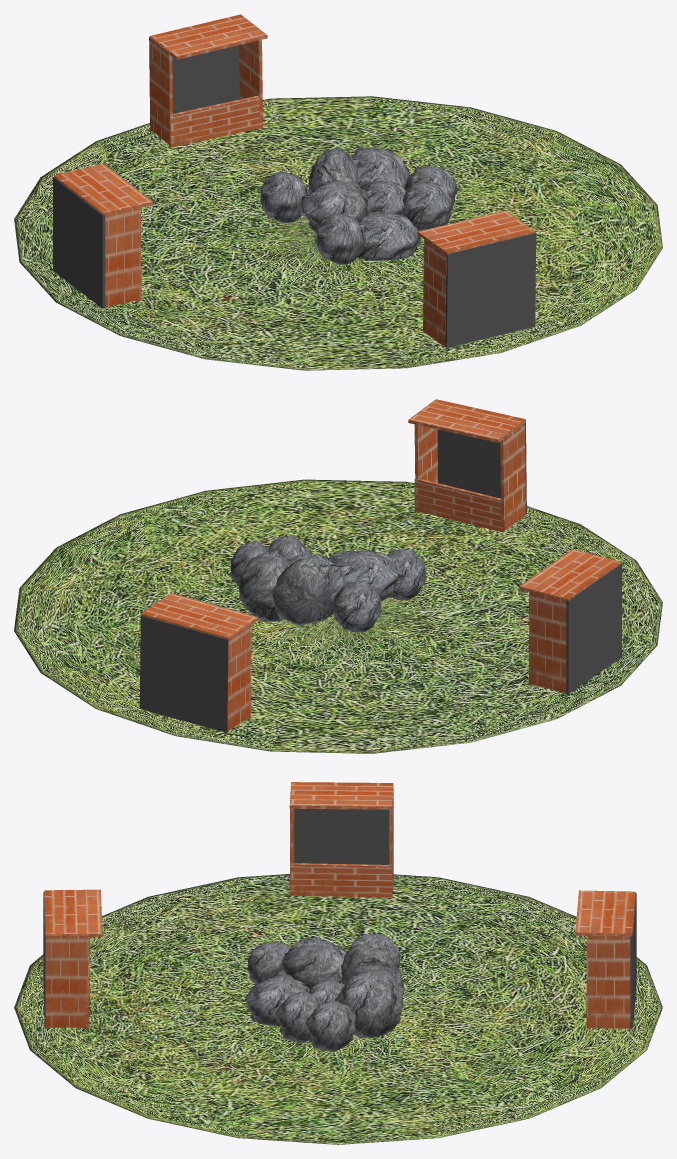
File: Tienda 3.fbx
3 views of the same model, one above another, from view 1: azimuth 30°, elevation 25°; view 2: azimuth 150°, elevation 25°; view 3: azimuth 270°, elevation 25° (orthographic).
Visible parts, largest first — view 1: pSphere2, pasted__pasted__pasted__pasted__pasted__pCube1 (×4), pasted__pasted__pasted__pasted__pCube1 (×3), pasted__pasted__pasted__pCube1, pasted__pSphere1 (×3), pasted__pasted__pasted__pasted__pasted__pasted__pCube1 (×2), pasted__pasted__pasted__pSphere1 (×3), pasted__pasted__pasted__pasted__pasted__pasted__pasted__pCub, pasted__pasted__pSphere1 (×2), pSphere1; view 2: pSphere2, pasted__pasted__pasted__pasted__pCube1 (×4), pasted__pasted__pasted__pasted__pasted__pCube1 (×3), pasted__pasted__pasted__pasted__pasted__pasted__pCube1 (×3), pasted__pSphere1 (×3), pasted__pasted__pasted__pSphere1 (×3), pasted__pasted__pasted__pCube1, pasted__pasted__pSphere1; view 3: pSphere2, pasted__pasted__pasted__pasted__pasted__pCube1 (×4), pasted__pasted__pasted__pasted__pasted__pasted__pCube1 (×2), pasted__pasted__pasted__pSphere1 (×3), pasted__pSphere1 (×3), pasted__pasted__pasted__pasted__pCube1 (×2), pasted__pasted__pSphere1 (×2), pSphere1.
Part boxes in pixels (bbox=[...]): pSphere2: bbox=[14, 96, 662, 370]; pasted__pasted__pasted__pasted__pasted__pCube1 (×4): bbox=[53, 14, 267, 308]; pasted__pasted__pasted__pasted__pCube1 (×3): bbox=[149, 37, 535, 346]; pasted__pasted__pasted__pCube1: bbox=[445, 233, 536, 347]; pasted__pSphere1 (×3): bbox=[300, 147, 453, 233]; pasted__pasted__pasted__pasted__pasted__pasted__pCube1 (×2): bbox=[54, 36, 172, 216]; pasted__pasted__pasted__pSphere1 (×3): bbox=[260, 147, 457, 222]; pasted__pasted__pasted__pasted__pasted__pasted__pasted__pCub: bbox=[102, 206, 140, 307]; pasted__pasted__pSphere1 (×2): bbox=[316, 180, 405, 264]; pSphere1: bbox=[357, 211, 420, 260]; pSphere2: bbox=[14, 479, 662, 753]; pasted__pasted__pasted__pasted__pCube1 (×4): bbox=[139, 399, 525, 732]; pasted__pasted__pasted__pasted__pasted__pCube1 (×3): bbox=[141, 424, 621, 693]; pasted__pasted__pasted__pasted__pasted__pasted__pCube1 (×3): bbox=[225, 549, 621, 731]; pasted__pSphere1 (×3): bbox=[268, 534, 400, 625]; pasted__pasted__pasted__pSphere1 (×3): bbox=[230, 541, 381, 632]; pasted__pasted__pasted__pCube1: bbox=[437, 422, 526, 514]; pasted__pasted__pSphere1: bbox=[387, 548, 426, 600]; pSphere2: bbox=[14, 874, 662, 1144]; pasted__pasted__pasted__pasted__pasted__pCube1 (×4): bbox=[45, 808, 635, 1028]; pasted__pasted__pasted__pasted__pasted__pasted__pCube1 (×2): bbox=[289, 782, 393, 897]; pasted__pasted__pasted__pSphere1 (×3): bbox=[305, 933, 404, 1052]; pasted__pSphere1 (×3): bbox=[275, 936, 403, 1042]; pasted__pasted__pasted__pasted__pCube1 (×2): bbox=[44, 889, 636, 1028]; pasted__pasted__pSphere1 (×2): bbox=[246, 942, 344, 1003]; pSphere1: bbox=[244, 974, 309, 1025].
Size of the model in its own units: 20.47 by 3.85 by 20.47.
